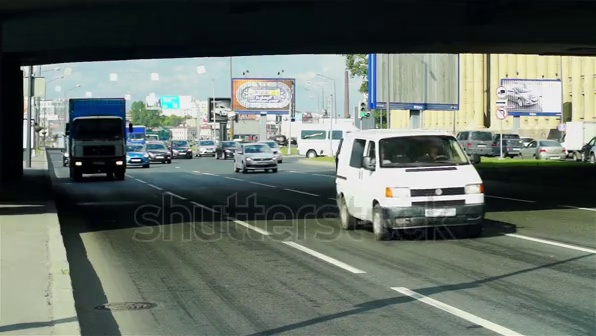licenseplate: (425, 201, 459, 219)
